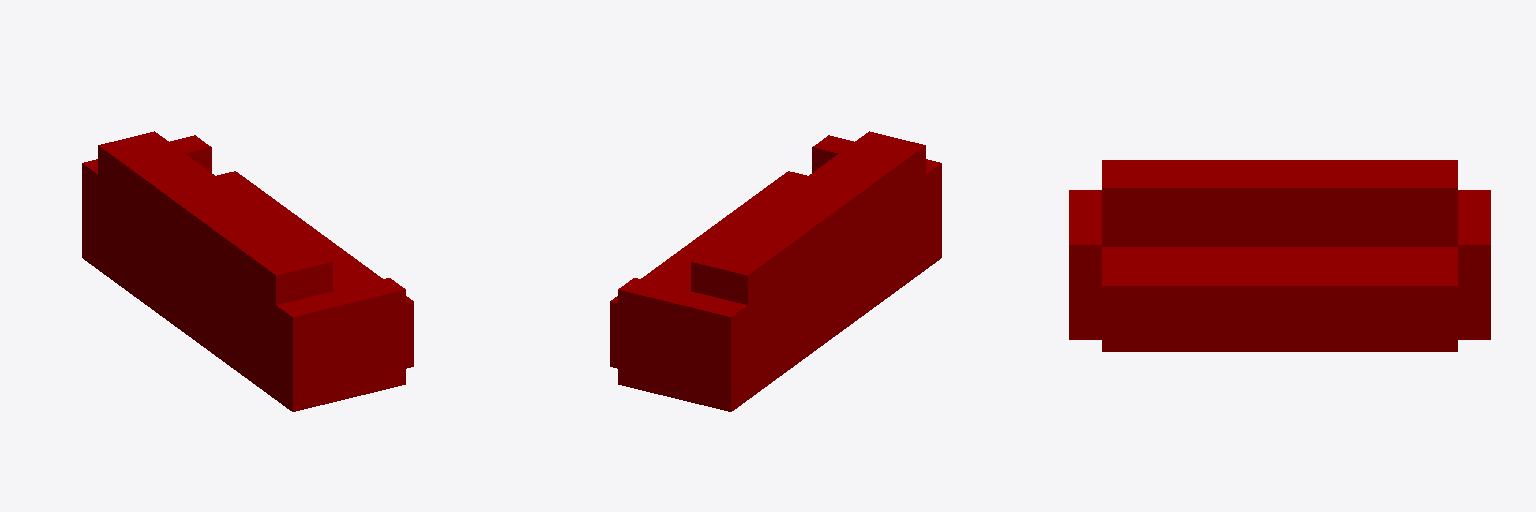
File: couch.obj
The picture shows the model from 3 angles: view 1: azimuth 30°, elevation 25°; view 2: azimuth 150°, elevation 25°; view 3: azimuth 270°, elevation 25°; orthographic projection.
Parts seen in each view (by area): view 1: Cube; view 2: Cube; view 3: Cube.
Part boxes in pixels (x1,y1,x2,y2): Cube: (82, 131, 413, 411); Cube: (610, 131, 941, 411); Cube: (1069, 160, 1490, 351).
Bounding box in the file's own units: 2.43 × 2.1 × 6.44.